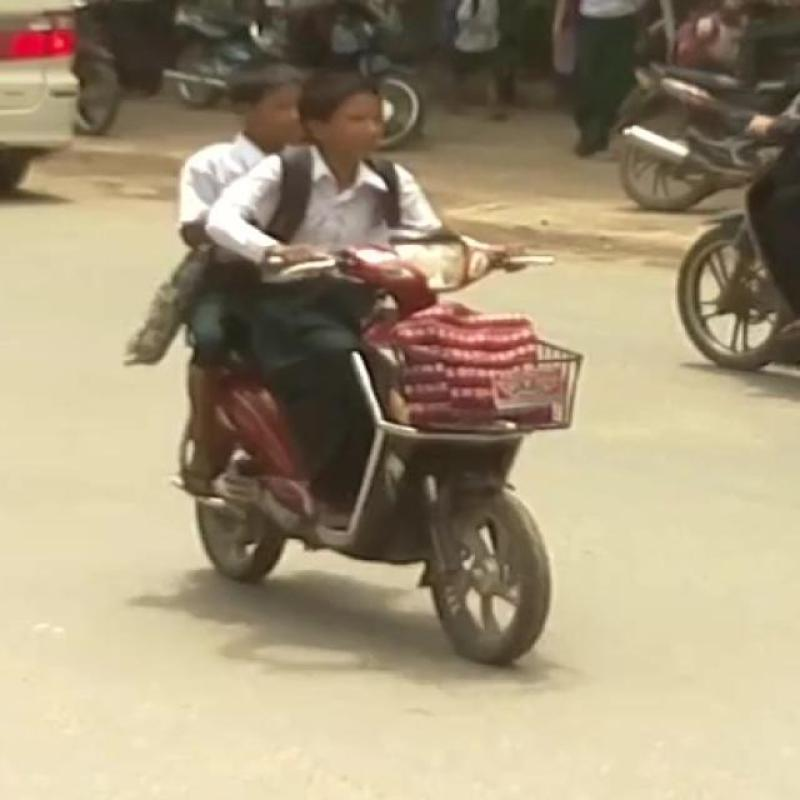nohelmet: (284, 64, 404, 178)
